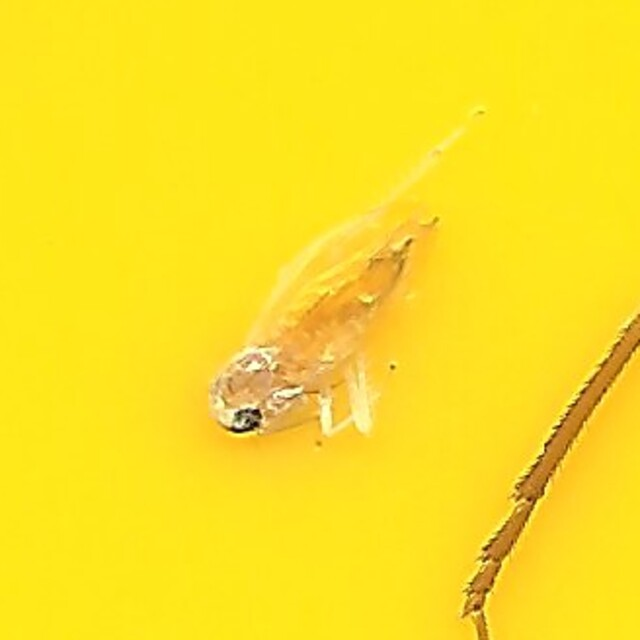Hemiptera: (195, 199, 445, 441)
